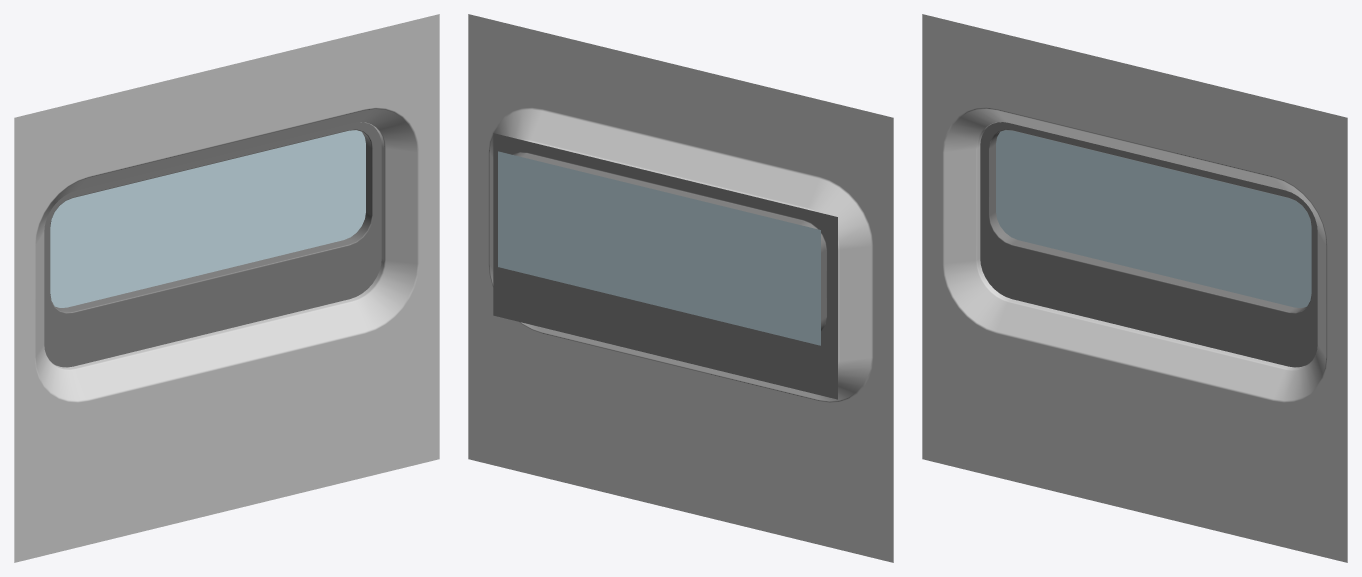
File: ApartmentExteriorWindowMedium04.fbx
The picture shows the model from 3 angles, left to right: view 1: azimuth 30°, elevation 25°; view 2: azimuth 150°, elevation 25°; view 3: azimuth 330°, elevation 25°; orthographic projection.
Visible parts, largest first — view 1: ApartmentExteriorWindowMedium04; view 2: ApartmentExteriorWindowMedium04; view 3: ApartmentExteriorWindowMedium04.
Part boxes in pixels (x1,y1,x2,y2): ApartmentExteriorWindowMedium04: (14, 14, 439, 562); ApartmentExteriorWindowMedium04: (468, 14, 893, 562); ApartmentExteriorWindowMedium04: (922, 14, 1347, 562).
Size of the model in its own units: 400 by 400 by 35.
